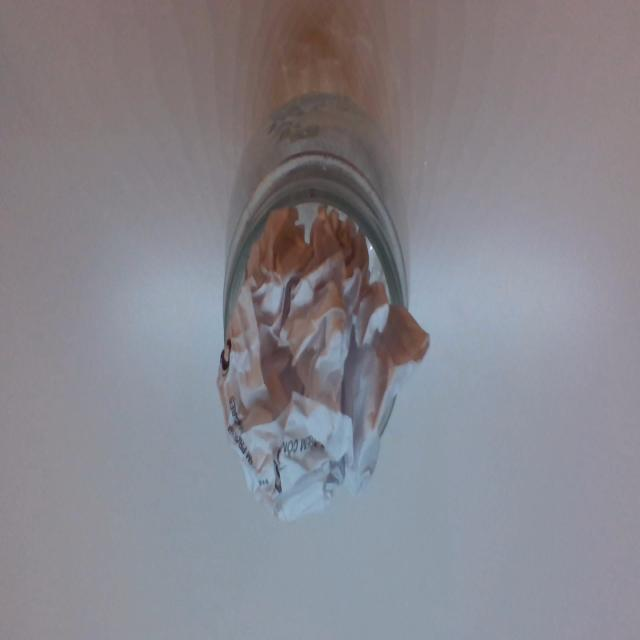Paper: (221, 212, 389, 515)
